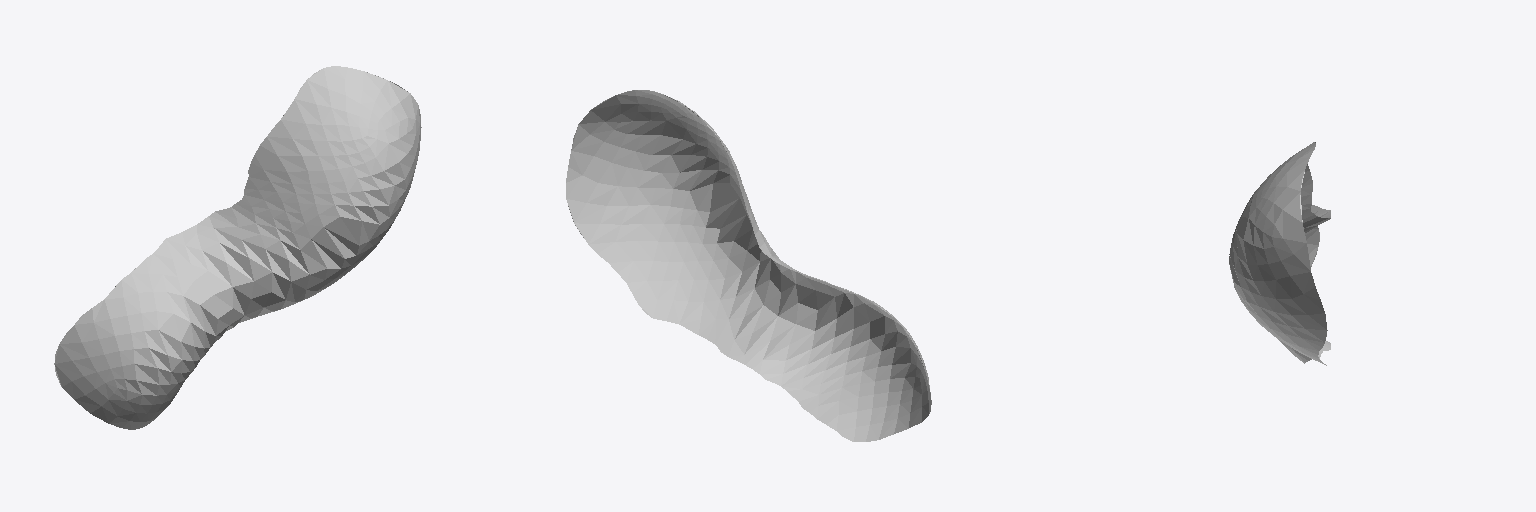
The model's file is b2_opt_(1)_final.obj.
The picture shows the model from 3 angles: view 1: azimuth 30°, elevation 25°; view 2: azimuth 150°, elevation 25°; view 3: azimuth 270°, elevation 25°; orthographic projection.
Parts seen in each view (by area): view 1: samples/b2_opt_(1)_final; view 2: samples/b2_opt_(1)_final; view 3: samples/b2_opt_(1)_final.
Boxes of the visible parts, <box> form: samples/b2_opt_(1)_final: <box>54,66,421,429</box>; samples/b2_opt_(1)_final: <box>566,90,931,441</box>; samples/b2_opt_(1)_final: <box>1229,142,1330,365</box>.
Size of the model in its own units: 63.99 by 51.72 by 15.64.